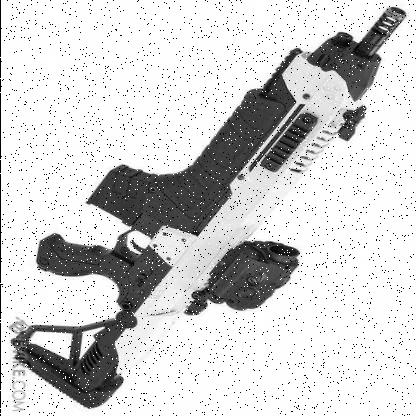rifle: (20, 5, 403, 412)
